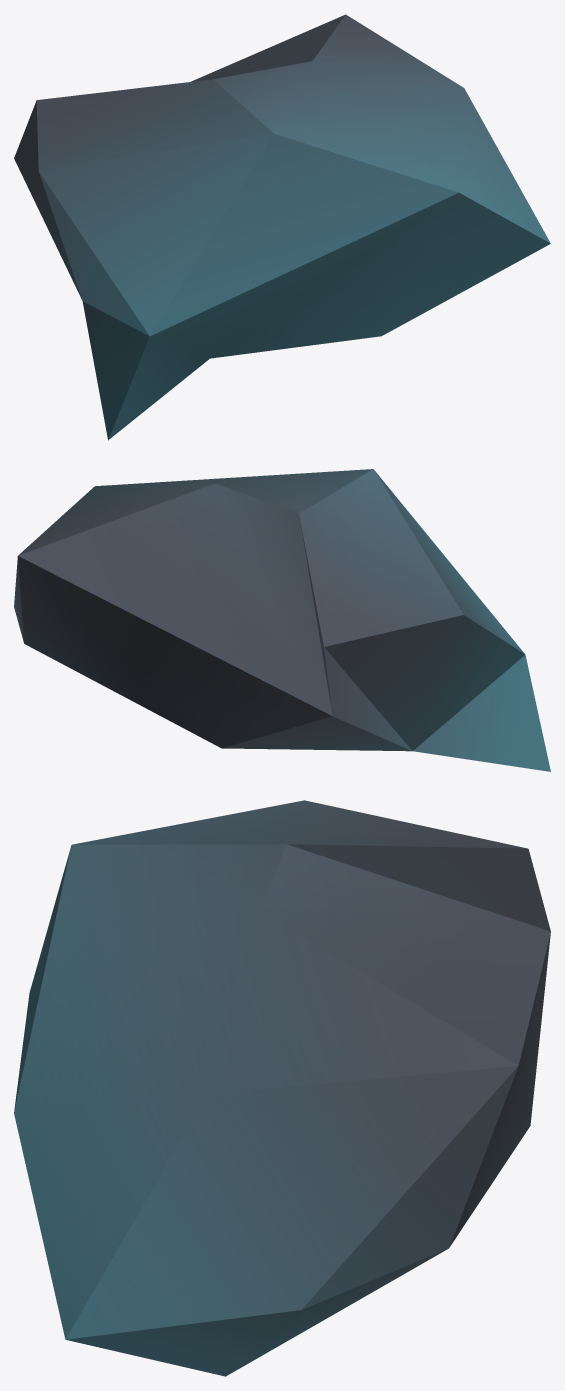
File: Stone_Small_1c.fbx
3 views of the same model, one above another, from view 1: azimuth 30°, elevation 25°; view 2: azimuth 150°, elevation 25°; view 3: azimuth 270°, elevation 25° (orthographic). The views are drawn at different scales.
Visible parts, largest first — view 1: Stone_Small_1c; view 2: Stone_Small_1c; view 3: Stone_Small_1c.
Part boxes in pixels (left/top/right/bottom): Stone_Small_1c: left=14, top=14, right=550, bottom=440; Stone_Small_1c: left=14, top=469, right=550, bottom=771; Stone_Small_1c: left=14, top=800, right=550, bottom=1376.
Bounding box in the file's own units: 3.77 × 2.11 × 2.41.
